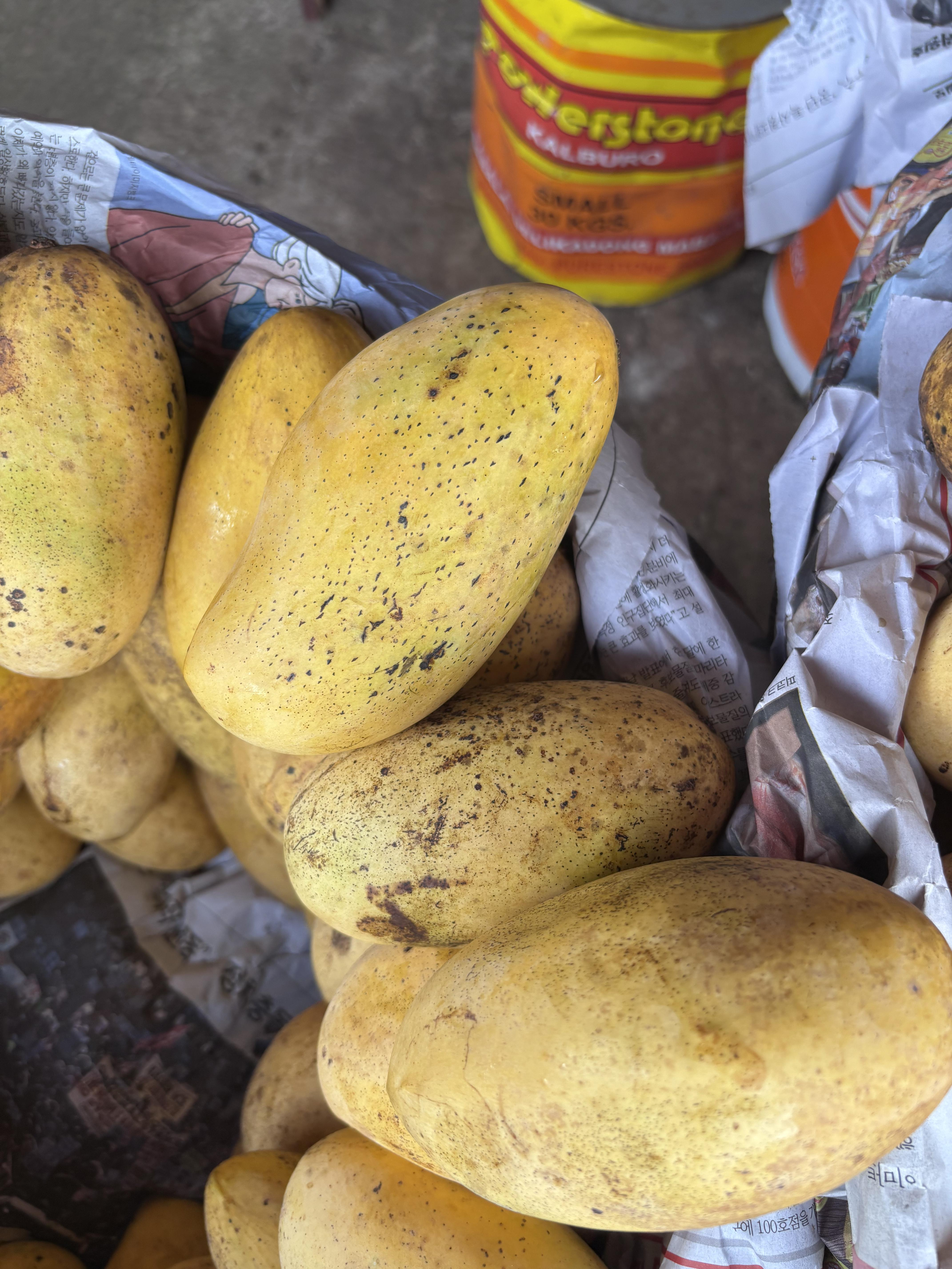mango: (185, 285, 617, 754), (285, 681, 734, 945)
occluded: (0, 244, 186, 678), (279, 1129, 600, 1269)
